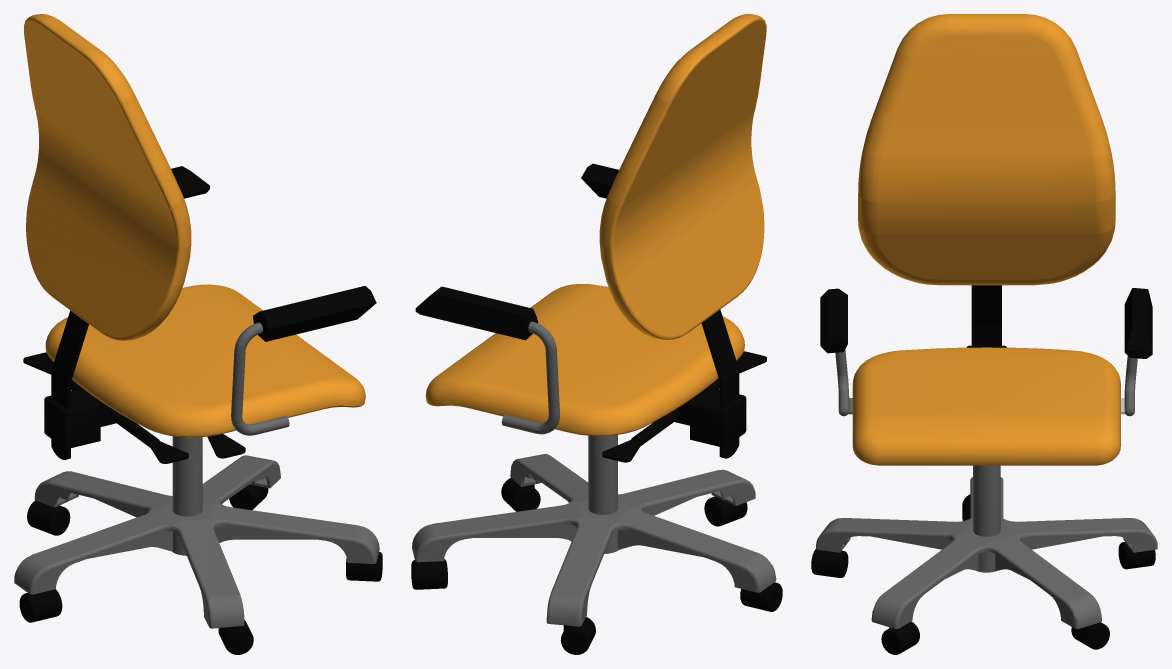
Rendered from chair.gltf.
The picture shows the model from 3 angles, left to right: view 1: azimuth 30°, elevation 25°; view 2: azimuth 150°, elevation 25°; view 3: azimuth 270°, elevation 25°; orthographic projection. The views are drawn at different scales.
Parts seen in each view (by area): view 1: Object_1083.001, Object_1089.001, Object_1094.001, Object_1088.001, Object_1081.001, Object_1093.001, Object_1082.001, Object_1080.001, Object_1095.001, Object_1096.001, Object_1099.001, Object_1079.001 (+2 smaller); view 2: Object_1083.001, Object_1089.001, Object_1094.001, Object_1088.001, Object_1079.001, Object_1082.001, Object_1093.001, Object_1078.001, Object_1097.001, Object_1098.001, Object_1096.001, Object_1099.001 (+2 smaller); view 3: Object_1083.001, Object_1089.001, Object_1094.001, Object_1093.001, Object_1082.001, Object_1079.001, Object_1081.001, Object_1099.001, Object_1098.001, Object_1097.001, Object_1080.001, Object_1096.001 (+1 smaller).
Part boxes in pixels (x1=…): Object_1083.001: x1=24, y1=14, x2=191, y2=340; Object_1089.001: x1=45, y1=284, x2=365, y2=437; Object_1094.001: x1=14, y1=455, x2=379, y2=628; Object_1088.001: x1=23, y1=352, x2=245, y2=463; Object_1081.001: x1=253, y1=286, x2=376, y2=341; Object_1093.001: x1=172, y1=436, x2=202, y2=555; Object_1082.001: x1=51, y1=310, x2=88, y2=459; Object_1080.001: x1=231, y1=322, x2=289, y2=435; Object_1095.001: x1=19, y1=589, x2=62, y2=622; Object_1096.001: x1=27, y1=500, x2=70, y2=535; Object_1099.001: x1=218, y1=620, x2=253, y2=654; Object_1079.001: x1=171, y1=166, x2=209, y2=198; Object_1083.001: x1=599, y1=14, x2=766, y2=339; Object_1089.001: x1=425, y1=284, x2=744, y2=435; Object_1094.001: x1=412, y1=454, x2=776, y2=626; Object_1088.001: x1=602, y1=351, x2=766, y2=462; Object_1079.001: x1=415, y1=286, x2=538, y2=340; Object_1082.001: x1=701, y1=309, x2=739, y2=458; Object_1093.001: x1=588, y1=435, x2=618, y2=514; Object_1078.001: x1=501, y1=321, x2=559, y2=434; Object_1097.001: x1=411, y1=559, x2=447, y2=589; Object_1098.001: x1=501, y1=478, x2=540, y2=511; Object_1096.001: x1=560, y1=617, x2=595, y2=654; Object_1099.001: x1=704, y1=496, x2=747, y2=526; Object_1083.001: x1=858, y1=14, x2=1115, y2=285; Object_1089.001: x1=852, y1=347, x2=1120, y2=465; Object_1094.001: x1=816, y1=477, x2=1157, y2=628; Object_1093.001: x1=973, y1=465, x2=1000, y2=572; Object_1082.001: x1=971, y1=285, x2=1001, y2=347; Object_1079.001: x1=1124, y1=288, x2=1152, y2=358; Object_1081.001: x1=820, y1=288, x2=847, y2=353; Object_1099.001: x1=811, y1=549, x2=848, y2=577; Object_1098.001: x1=881, y1=621, x2=919, y2=654; Object_1097.001: x1=1071, y1=622, x2=1109, y2=649; Object_1080.001: x1=835, y1=350, x2=849, y2=416; Object_1096.001: x1=1118, y1=542, x2=1155, y2=569.
Bounding box in the file's own units: 0.6367 × 1.1 × 0.6601.
